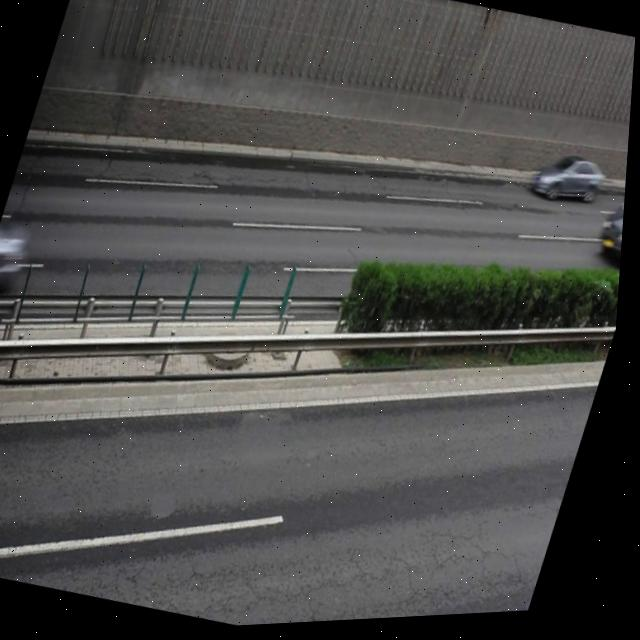car: (530, 149, 612, 213)
truck: (594, 171, 630, 275)
